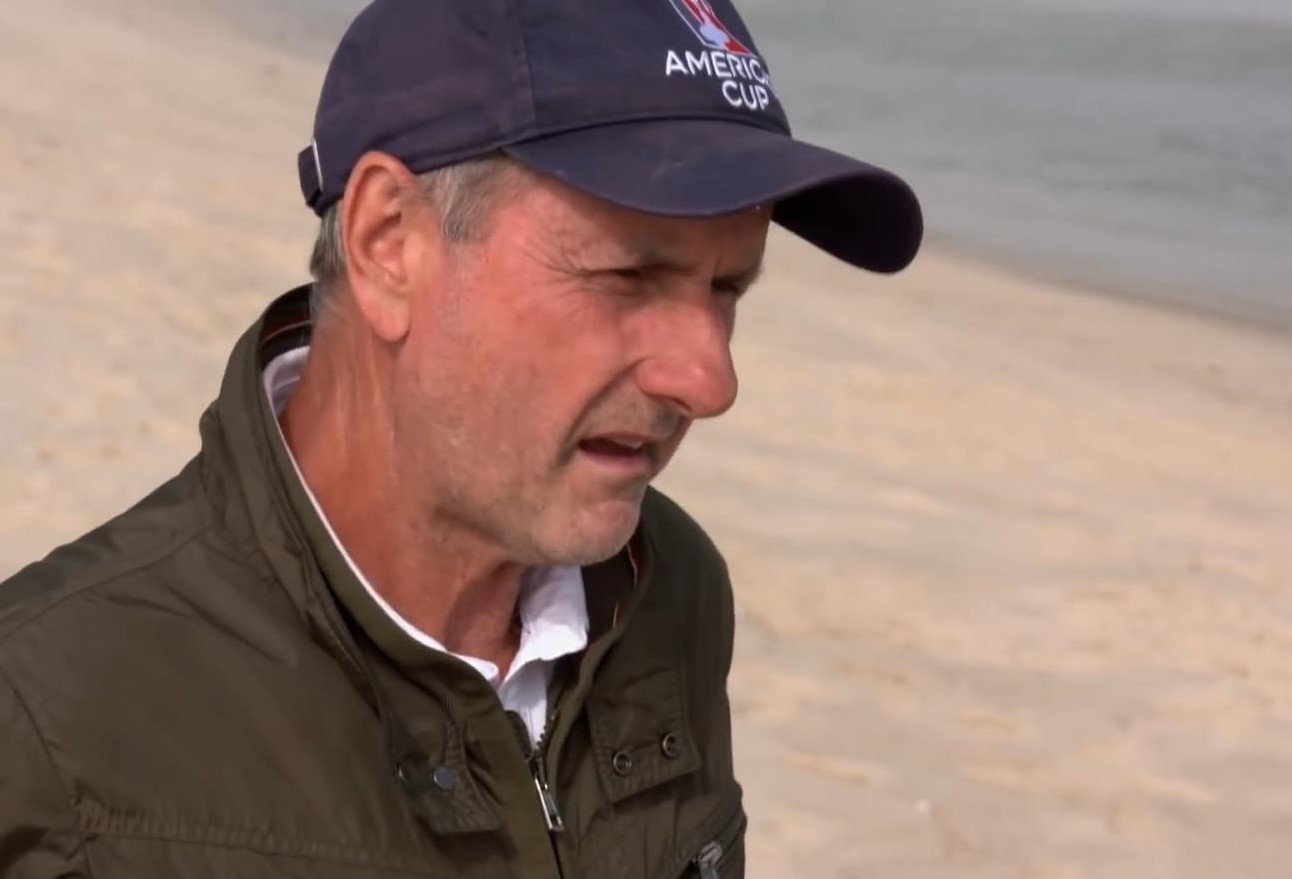without_mask: (468, 205, 730, 486)
